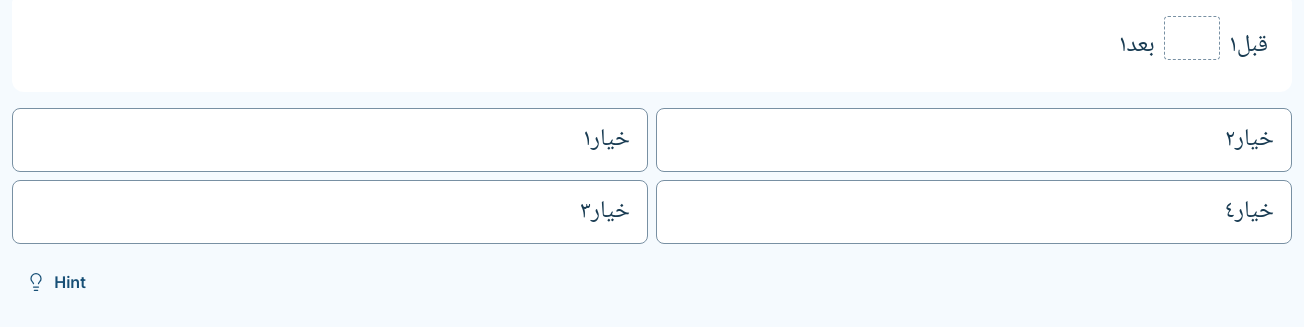
Test: word choice and similar distinction tiles (UI-tokens 6.16) › hint › keeps the selection when the removed option was another one
Click the radio button labelled "خيار٣" at x=610, y=212, box left=12, top=180, right=648, bottom=244
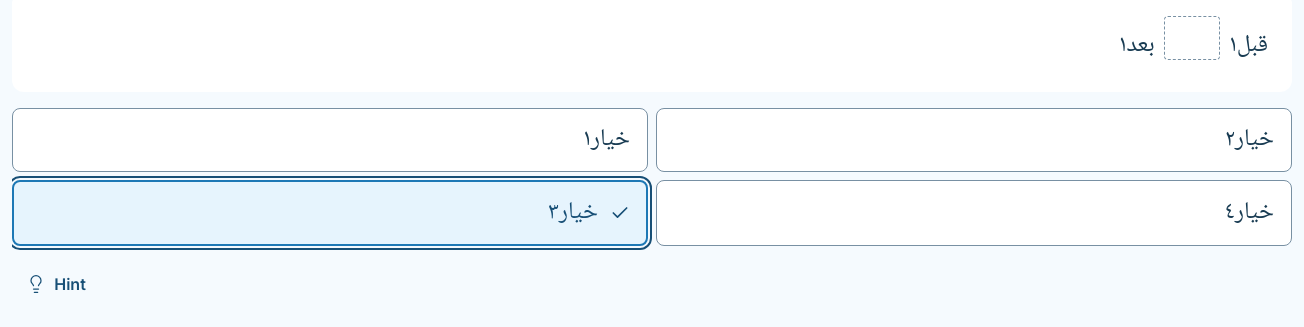
Click the button "Hint" at x=56, y=284, box left=12, top=262, right=100, bottom=306
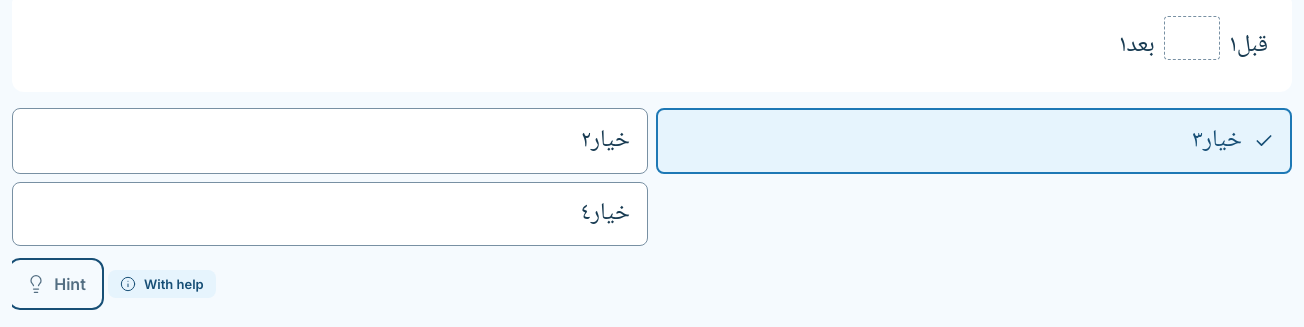
Check: the radio button labelled "خيار١" is gone
